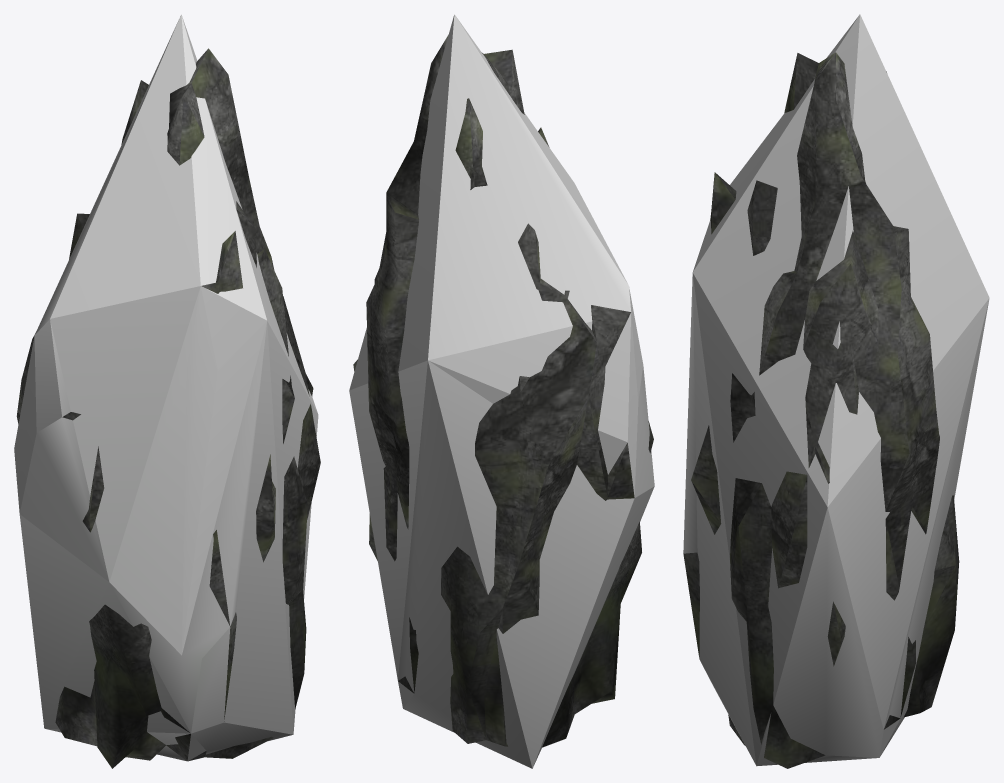
The model's file is shore_rock_c_stack.glb.
3 renders of one model, left to right at view 1: azimuth 30°, elevation 25°; view 2: azimuth 150°, elevation 25°; view 3: azimuth 270°, elevation 25°, orthographic. The views are drawn at different scales.
Visible parts, largest first — view 1: col_shore_rock_c_stack, shore_rock_c_stack; view 2: col_shore_rock_c_stack, shore_rock_c_stack; view 3: col_shore_rock_c_stack, shore_rock_c_stack.
Boxes of the visible parts, x1,y1,x2,y2 form: col_shore_rock_c_stack: [14, 14, 318, 761]; shore_rock_c_stack: [16, 48, 320, 768]; col_shore_rock_c_stack: [349, 14, 654, 768]; shore_rock_c_stack: [353, 35, 653, 747]; col_shore_rock_c_stack: [683, 14, 989, 766]; shore_rock_c_stack: [683, 52, 959, 768].
Size of the model in its own units: 2.01 by 4.65 by 1.76.
Materials: 1 (1 with a texture image).
